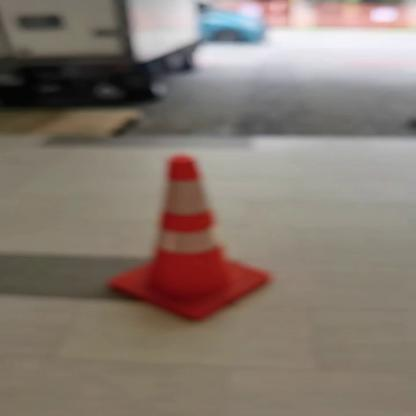cone: (109, 146, 289, 317)
